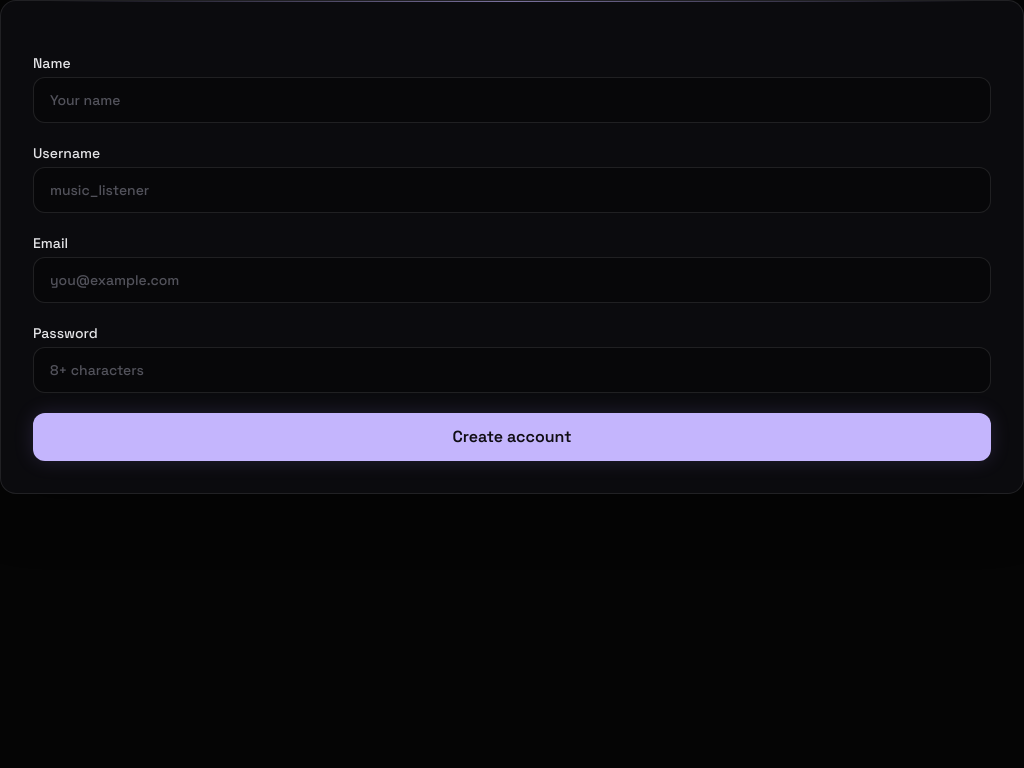
Test: RegistrationForm › shows field errors and blocks invalid registration
Step 1. Click the button "Create account" → point(512, 437), box [33,413,991,461]
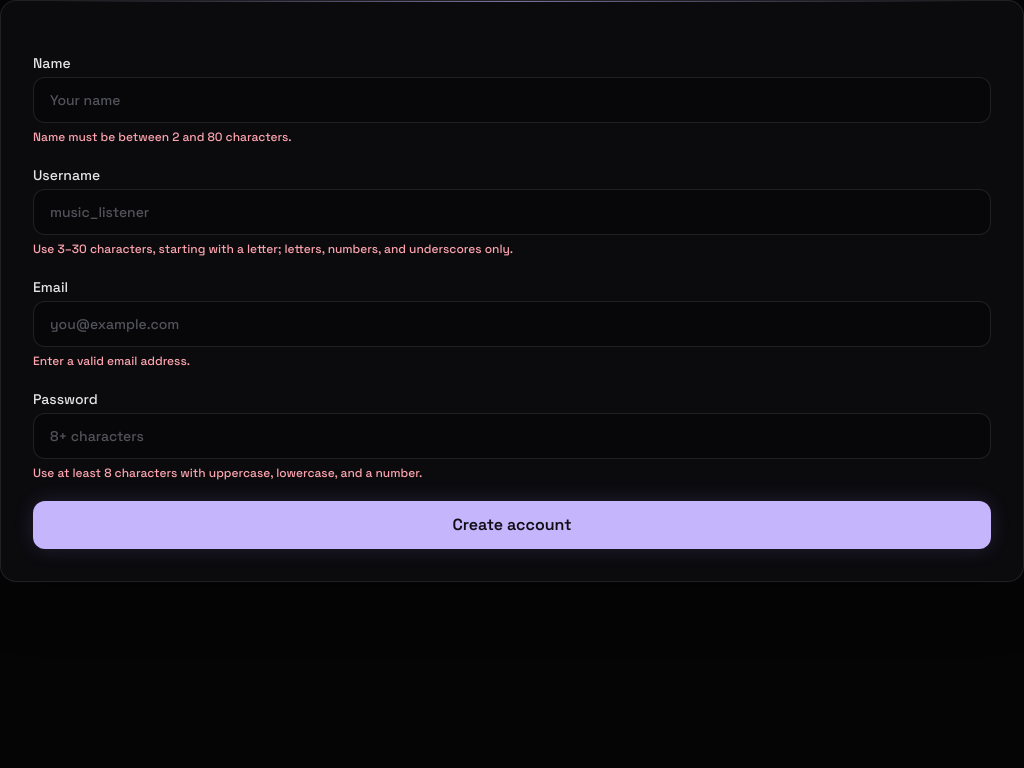
Expected: the text "Name must be between 2 and 80 characters." is shown, [33,129,292,145]
Expected: the text "starting with a letter" is shown, [33,241,513,257]
Expected: the text "Enter a valid email address." is shown, [33,353,190,369]
